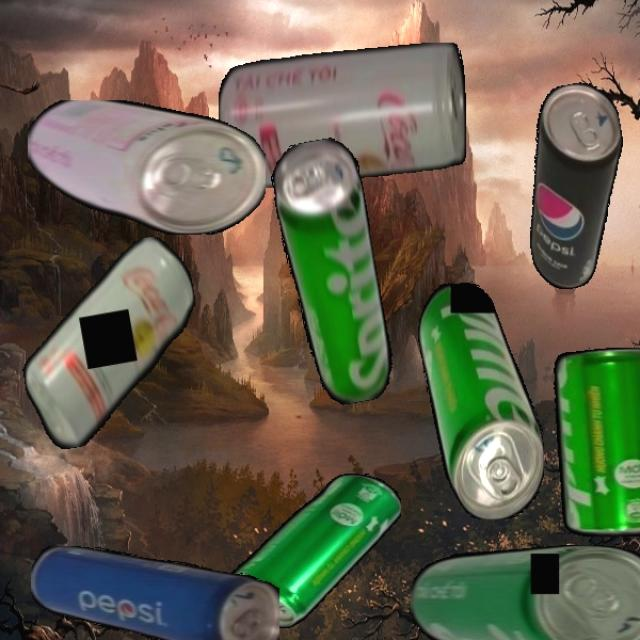debris: (4, 232, 217, 454), (218, 41, 467, 188), (267, 134, 399, 410), (27, 100, 266, 235), (417, 280, 544, 520), (504, 77, 640, 293), (222, 474, 401, 628), (30, 546, 279, 640), (409, 545, 640, 640), (552, 347, 640, 536)
